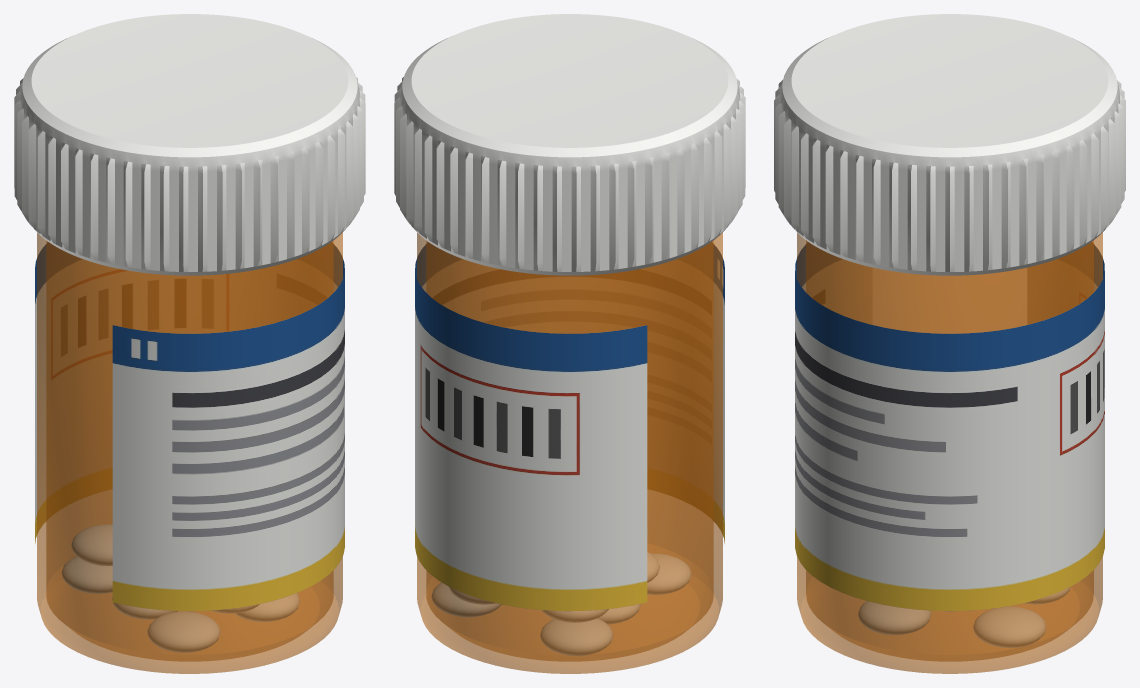
The model's file is pill-bottle.glb.
The picture shows the model from 3 angles, left to right: view 1: azimuth 30°, elevation 25°; view 2: azimuth 150°, elevation 25°; view 3: azimuth 270°, elevation 25°; orthographic projection.
Parts seen in each view (by area): view 1: pill-bottle_label, pill-bottle_cap, pill-bottle_vial, pill-bottle_tablets; view 2: pill-bottle_label, pill-bottle_cap, pill-bottle_vial, pill-bottle_tablets; view 3: pill-bottle_label, pill-bottle_cap, pill-bottle_vial, pill-bottle_tablets.
Part boxes in pixels (x1,y1,x2,y2): pill-bottle_label: (35, 243, 344, 611); pill-bottle_cap: (14, 14, 365, 275); pill-bottle_vial: (37, 232, 342, 673); pill-bottle_tablets: (62, 524, 299, 652); pill-bottle_label: (415, 243, 724, 611); pill-bottle_cap: (394, 14, 745, 275); pill-bottle_vial: (417, 232, 722, 673); pill-bottle_tablets: (431, 532, 691, 655); pill-bottle_label: (795, 243, 1104, 611); pill-bottle_cap: (774, 14, 1125, 275); pill-bottle_vial: (797, 232, 1102, 673); pill-bottle_tablets: (858, 587, 1070, 647).
Bounding box in the file's own units: 0.046 × 0.077 × 0.046.
Materials: 4 (1 with a texture image).
